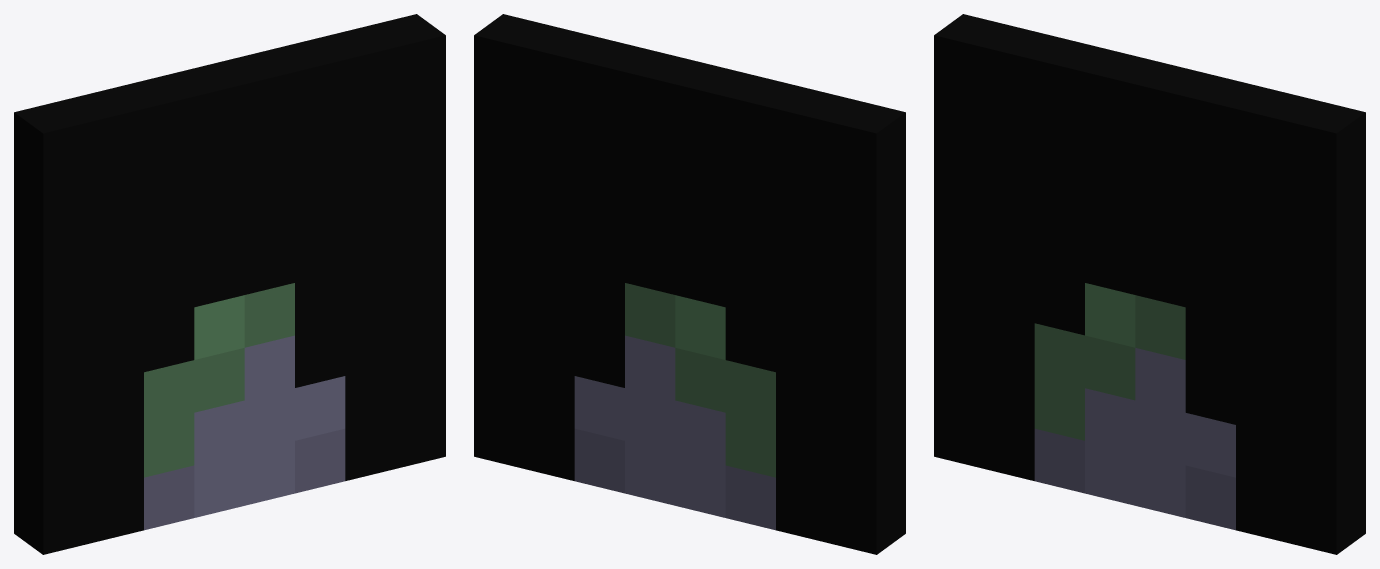
The model's file is 101_Piece15_15_0.obj.
3 renders of one model, left to right at view 1: azimuth 30°, elevation 25°; view 2: azimuth 150°, elevation 25°; view 3: azimuth 330°, elevation 25°, orthographic.
Parts seen in each view (by area): view 1: 101_Piece15_15_0; view 2: 101_Piece15_15_0; view 3: 101_Piece15_15_0.
Boxes of the visible parts, x1=… form: 101_Piece15_15_0: x1=14, y1=14, x2=445, y2=554; 101_Piece15_15_0: x1=474, y1=14, x2=905, y2=554; 101_Piece15_15_0: x1=934, y1=14, x2=1365, y2=554.
Size of the model in its own units: 8 by 8 by 1.
1 material, 1 textured.
